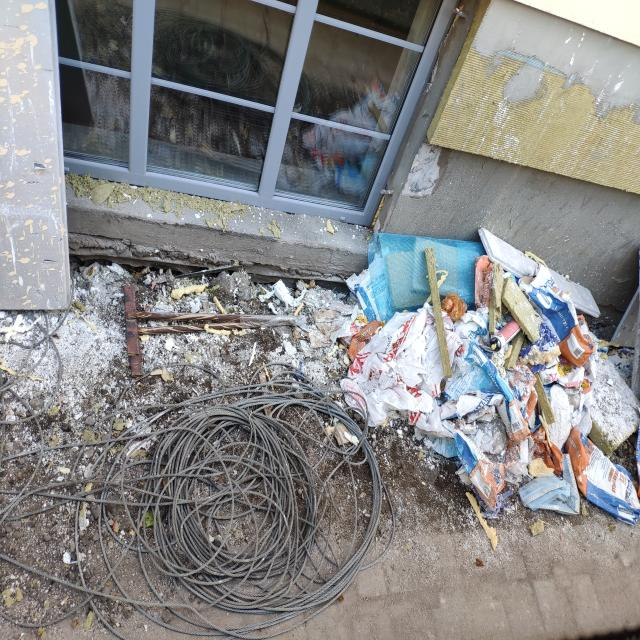entulho: (68, 374, 384, 632), (405, 333, 597, 521), (0, 0, 75, 310), (493, 254, 638, 372), (123, 284, 300, 372), (346, 304, 444, 427), (480, 224, 602, 322), (363, 229, 489, 313), (574, 393, 636, 528)
